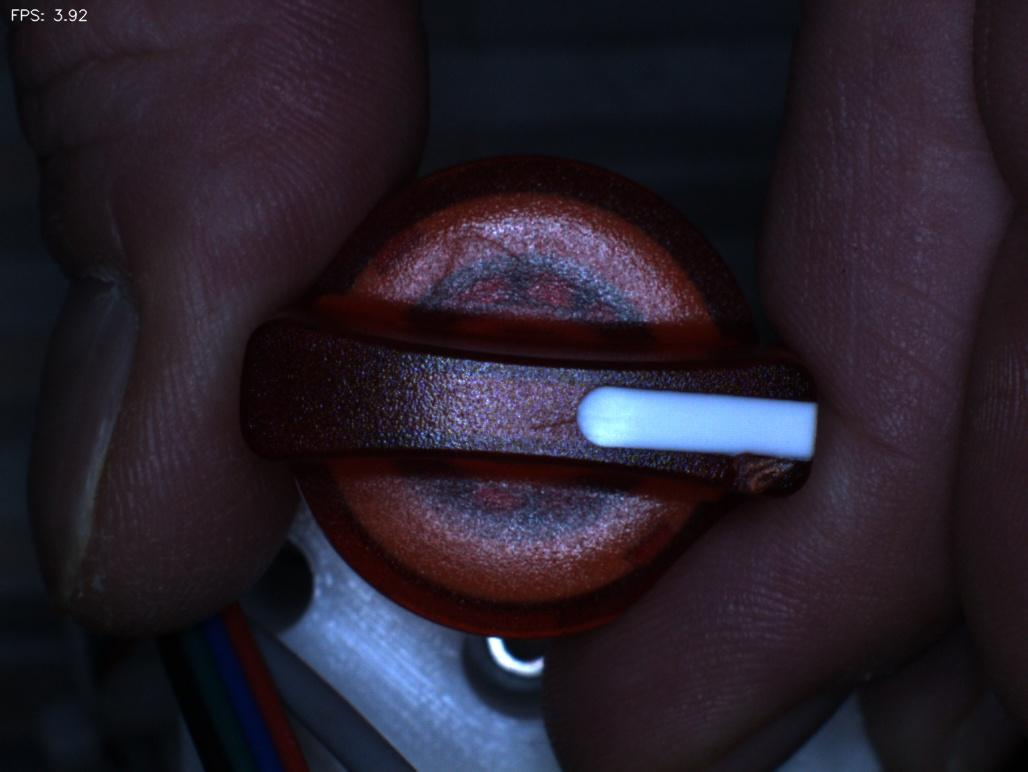Choc: (712, 433, 821, 528)
